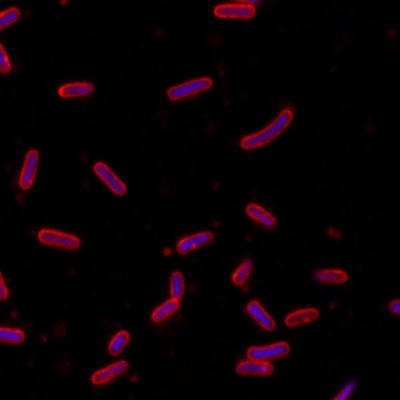Oblique: (244, 200, 279, 230), (230, 256, 255, 290), (308, 266, 348, 285), (57, 81, 97, 99)
Rifampicin: (238, 108, 294, 150), (152, 270, 185, 323), (166, 75, 215, 103), (92, 161, 127, 196), (88, 356, 130, 385), (35, 226, 81, 252), (245, 299, 277, 331), (174, 229, 213, 254), (18, 149, 41, 191), (245, 341, 291, 362), (210, 1, 258, 21), (230, 359, 275, 377), (106, 329, 130, 356)
Vesicle: (325, 223, 342, 241), (127, 371, 141, 384), (160, 245, 173, 258), (209, 178, 221, 192), (38, 333, 49, 345), (8, 309, 19, 319), (212, 219, 222, 228)
